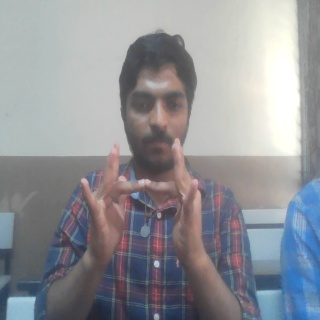Internet: (79, 135, 210, 268)
